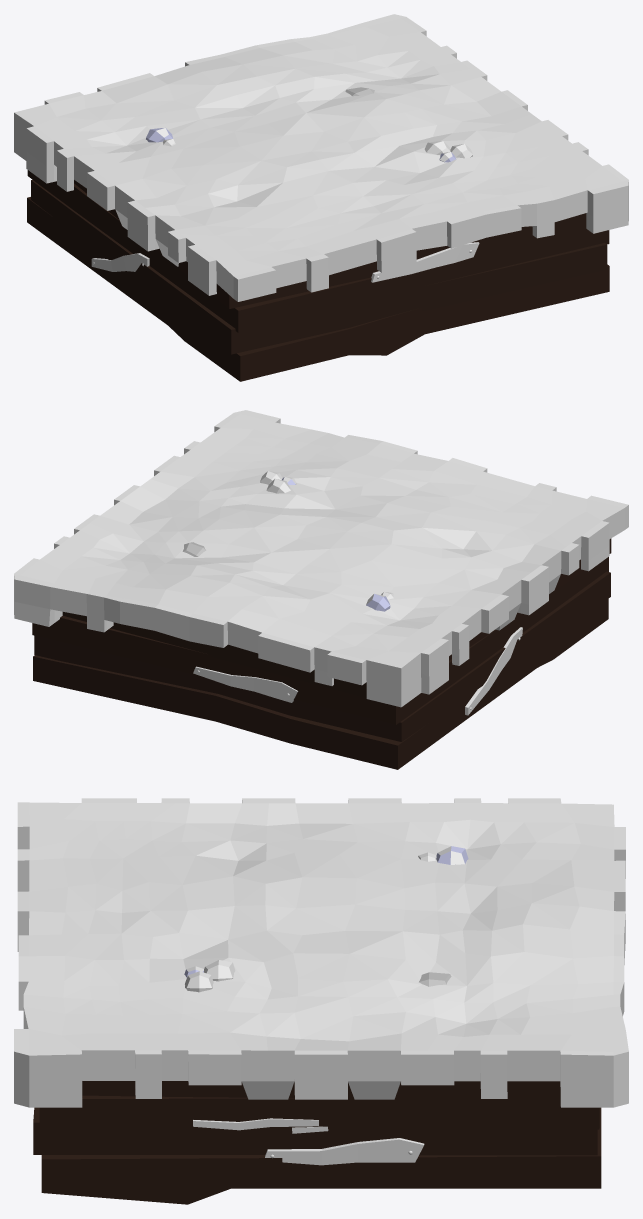
Rendered from farm_snow-tile.glb.
3 renders of one model, top to bottom at view 1: azimuth 30°, elevation 25°; view 2: azimuth 150°, elevation 25°; view 3: azimuth 270°, elevation 25°, orthographic. The views are drawn at different scales.
Parts seen in each view (by area): view 1: snow_tile_0; view 2: snow_tile_0; view 3: snow_tile_0.
Part boxes in pixels (bbox=[...]): snow_tile_0: bbox=[14, 14, 628, 381]; snow_tile_0: bbox=[14, 410, 628, 769]; snow_tile_0: bbox=[14, 798, 628, 1204].
Size of the model in its own units: 5.11 by 1.77 by 5.18.
